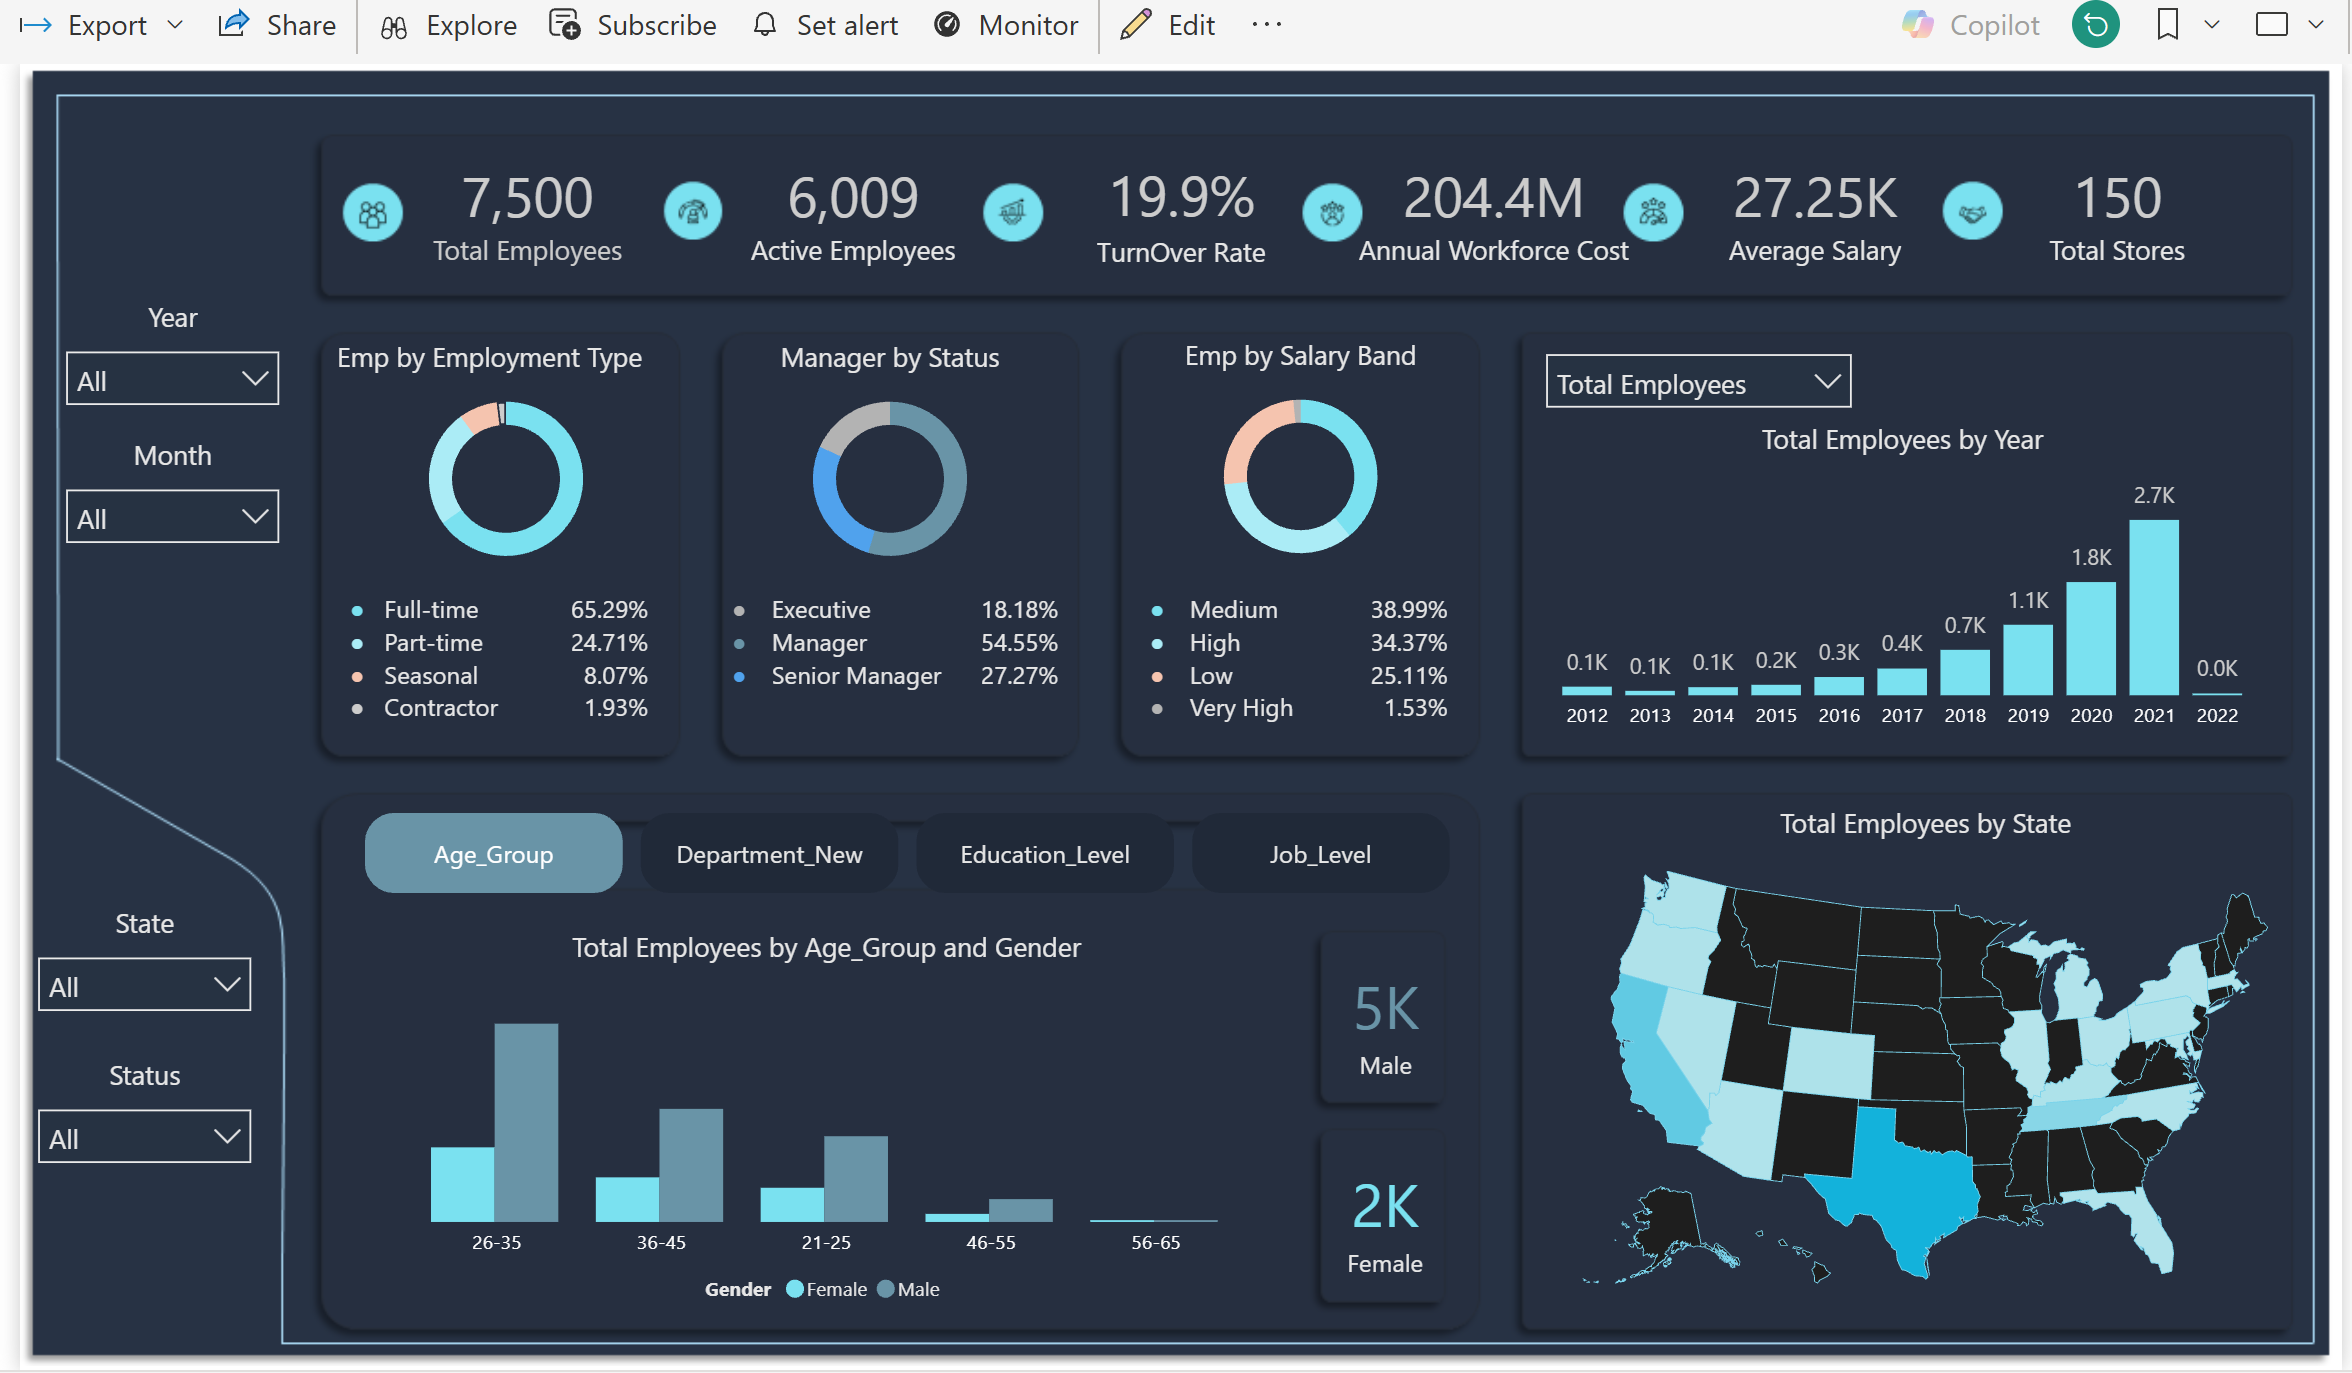

This screenshot's page, from the dashboard's own definition file:
{"tool":"powerbi","page":{"name":"Emp_Performance_Report","canvas":[1280,720],"ordinal":0},"visuals":[{"type":"cardVisual","fields":{"Data":["Employee.Total Employees"]},"box":[180.8,27.3,199,108.1],"z":0},{"type":"cardVisual","fields":{"Data":["Employee.Active Employees"]},"box":[346.8,27.2,224.6,108.6],"z":1},{"type":"cardVisual","fields":{"Data":["Employee.TurnOver Rate"]},"box":[528.3,27.2,224.6,108.6],"z":2},{"type":"cardVisual","fields":{"Data":["Employee.Annual Workforce Cost"]},"box":[698.6,27.2,227.1,108.6],"z":3},{"type":"cardVisual","fields":{"Data":["Employee.Average Salary"]},"box":[877.6,27.2,224.6,108.6],"z":4},{"type":"cardVisual","fields":{"Data":["Employee.Total Stores"]},"box":[1044.2,27.2,224.6,108.6],"z":5},{"type":"slicer","title":"Year","fields":{"Values":["Calendar_Table.Year"]},"box":[15.3,128.8,137.7,67.6],"z":6},{"type":"slicer","title":"Month","fields":{"Values":["Calendar_Table.Month Name"]},"box":[15.3,205.3,137.7,67.6],"z":7},{"type":"slicer","title":"State","fields":{"Values":["Employee.State"]},"box":[0,462.8,137.7,67.6],"z":8},{"type":"slicer","title":"Status","fields":{"Values":["Employee.Status"]},"box":[0,546.9,137.7,67.6],"z":9},{"type":"donutChart","title":"Emp by Employment Type","fields":{"Category":["Employee.Employment_Type"],"Y":["Employee.Total Employees"]},"box":[170.3,150.6,196.3,135.8],"z":10},{"type":"tableEx","fields":{"Values":["Employee.Icon","Employee.Employment_Type","Employee.Total Employees"]},"box":[170.8,260.1,209.1,128.8],"z":11},{"type":"donutChart","title":"Manager by Status","fields":{"Category":["Employee.Manager_Status"],"Y":["Employee.Manager"]},"box":[381.4,150.6,196.3,135.8],"z":12},{"type":"tableEx","fields":{"Values":["Employee.Icon","Employee.Manager_Status","Employee.Manager"]},"box":[381.8,260.6,235.4,99],"z":13},{"type":"donutChart","title":"Emp by Salary Band","fields":{"Category":["Employee.Salary_Band"],"Y":["Employee.Total Employees"]},"box":[607.1,150.5,197,135.4],"z":14},{"type":"tableEx","fields":{"Values":["Employee.Icon","Employee.Salary_Band","Employee.Total Employees"]},"box":[612,260.1,216.7,117.3],"z":15},{"type":"slicer","fields":{"Values":["KPI.KPI"]},"box":[831.2,150.4,188.7,45.9],"z":16},{"type":"clusteredColumnChart","fields":{"Y":["Employee.Total Employees"],"Category":["Calendar_Table.Year"]},"box":[831.2,196.3,413.1,179.8],"z":17},{"type":"advancedSlicerVisual","fields":{"Values":["Parameter.Parameter"]},"box":[184.9,408,609.4,54.8],"z":18},{"type":"clusteredColumnChart","fields":{"Category":["Employee.Age_Group"],"Y":["Employee.Total Employees"],"Series":["Employee.Gender"]},"box":[184.9,476.8,518.9,216.7],"z":19},{"type":"cardVisual","fields":{"Data":["Employee.Male"]},"box":[703.7,476.8,99.4,103.3],"z":20},{"type":"cardVisual","fields":{"Data":["Employee.Female"]},"box":[699.9,585.2,105.8,103.3],"z":21},{"type":"shapeMap","fields":{"Value":["Employee.Total Employees"],"Category":["Employee.State"]},"box":[831.2,408,438.6,281.8],"z":22}]}

Visuals, with their boxes on the page's 1280x720 design canvas (x1, y1, x2, y2). These are canvas units, not pixel positions in the 2352x1373 screenshot, which may show the page scaled, cropped or inside an application window:
cardVisual - Employee.Total Employees: (left=181, top=27, right=380, bottom=135)
cardVisual - Employee.Active Employees: (left=347, top=27, right=571, bottom=136)
cardVisual - Employee.TurnOver Rate: (left=528, top=27, right=753, bottom=136)
cardVisual - Employee.Annual Workforce Cost: (left=699, top=27, right=926, bottom=136)
cardVisual - Employee.Average Salary: (left=878, top=27, right=1102, bottom=136)
cardVisual - Employee.Total Stores: (left=1044, top=27, right=1269, bottom=136)
"Year" slicer: (left=15, top=129, right=153, bottom=196)
"Month" slicer: (left=15, top=205, right=153, bottom=273)
"State" slicer: (left=0, top=463, right=138, bottom=530)
"Status" slicer: (left=0, top=547, right=138, bottom=614)
"Emp by Employment Type" donutChart: (left=170, top=151, right=367, bottom=286)
tableEx - Employee.Icon x Employee.Employment_Type: (left=171, top=260, right=380, bottom=389)
"Manager by Status" donutChart: (left=381, top=151, right=578, bottom=286)
tableEx - Employee.Icon x Employee.Manager_Status: (left=382, top=261, right=617, bottom=360)
"Emp by Salary Band" donutChart: (left=607, top=150, right=804, bottom=286)
tableEx - Employee.Icon x Employee.Salary_Band: (left=612, top=260, right=829, bottom=377)
slicer - KPI.KPI: (left=831, top=150, right=1020, bottom=196)
clusteredColumnChart - Employee.Total Employees x Calendar_Table.Year: (left=831, top=196, right=1244, bottom=376)
advancedSlicerVisual - Parameter.Parameter: (left=185, top=408, right=794, bottom=463)
clusteredColumnChart - Employee.Age_Group x Employee.Total Employees: (left=185, top=477, right=704, bottom=694)
cardVisual - Employee.Male: (left=704, top=477, right=803, bottom=580)
cardVisual - Employee.Female: (left=700, top=585, right=806, bottom=688)
shapeMap - Employee.Total Employees x Employee.State: (left=831, top=408, right=1270, bottom=690)
